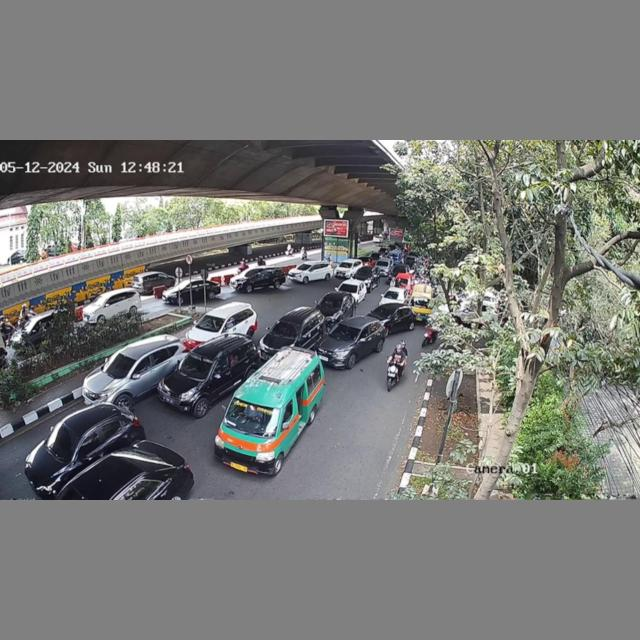windshield: (227, 398, 278, 439), (178, 352, 216, 379), (103, 350, 134, 379), (328, 321, 362, 345), (272, 319, 301, 339), (198, 315, 226, 331)
